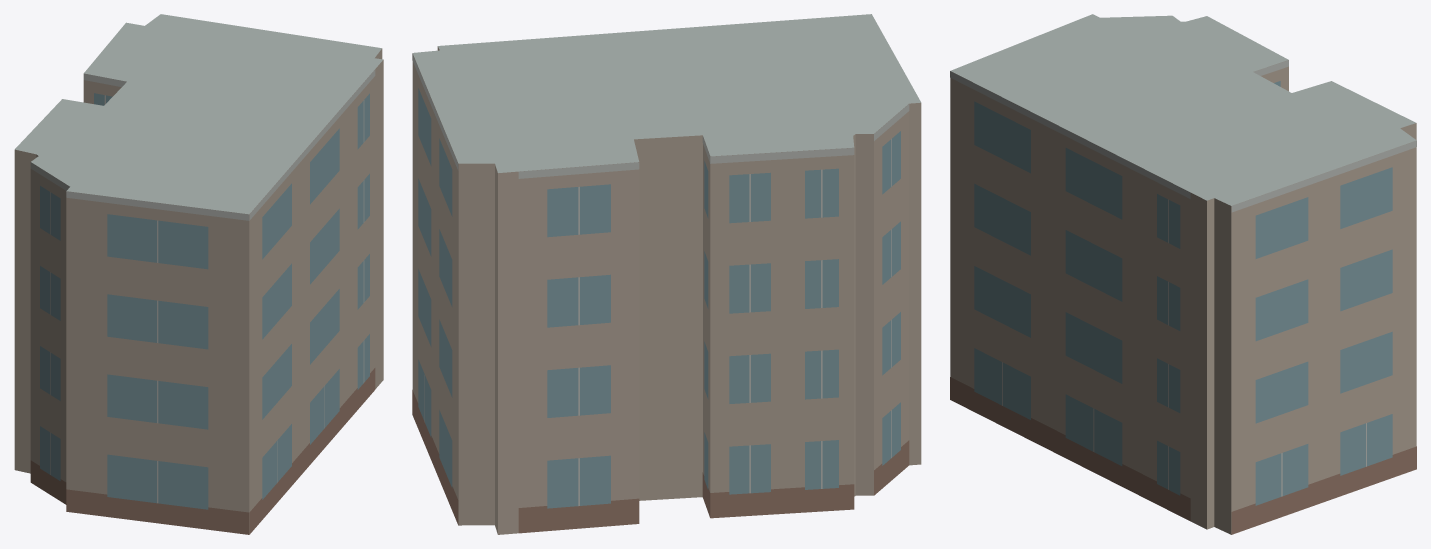
The model's file is survey-upis-32736777.glb.
The picture shows the model from 3 angles, left to right: view 1: azimuth 30°, elevation 25°; view 2: azimuth 150°, elevation 25°; view 3: azimuth 270°, elevation 25°; orthographic projection. The views are drawn at different scales.
Visible parts, largest first — view 1: survey-upis-32736777.tmp; view 2: survey-upis-32736777.tmp; view 3: survey-upis-32736777.tmp.
Part boxes in pixels (x1,y1,x2,y2): survey-upis-32736777.tmp: [14, 14, 383, 534]; survey-upis-32736777.tmp: [412, 14, 921, 534]; survey-upis-32736777.tmp: [950, 14, 1416, 534].
Bounding box in the file's own units: 14.9 × 11.9 × 15.31.
